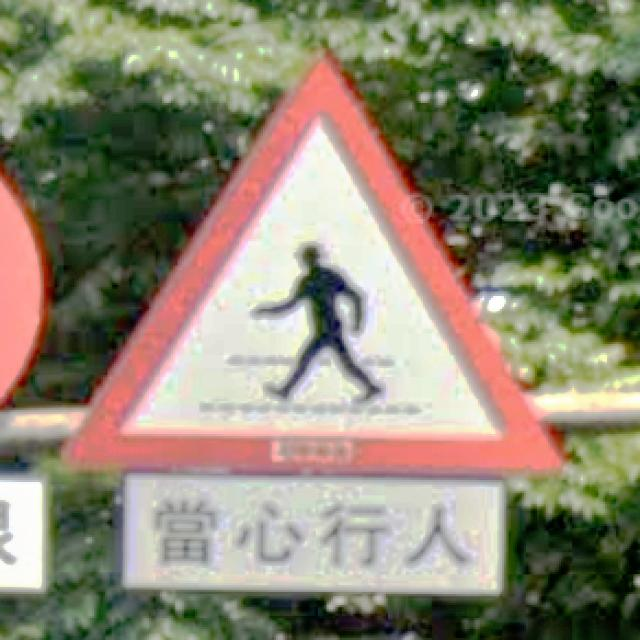pedestriancross: (59, 53, 568, 472)
